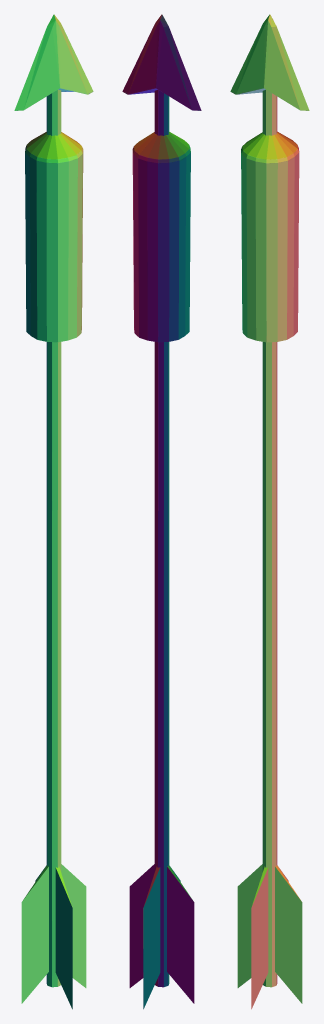
File: TimedExplosionArrowHULL.obj
3 renders of one model, left to right at view 1: azimuth 30°, elevation 25°; view 2: azimuth 150°, elevation 25°; view 3: azimuth 330°, elevation 25°, orthographic.
Parts seen in each view (by area): view 1: Cube_Cube.001; view 2: Cube_Cube.001; view 3: Cube_Cube.001.
Boxes of the visible parts, x1,y1,x2,y2 form: Cube_Cube.001: [14, 14, 93, 1009]; Cube_Cube.001: [122, 14, 201, 1009]; Cube_Cube.001: [230, 14, 309, 1009].
Size of the model in its own units: 0.051 by 0.6038 by 0.0415.
